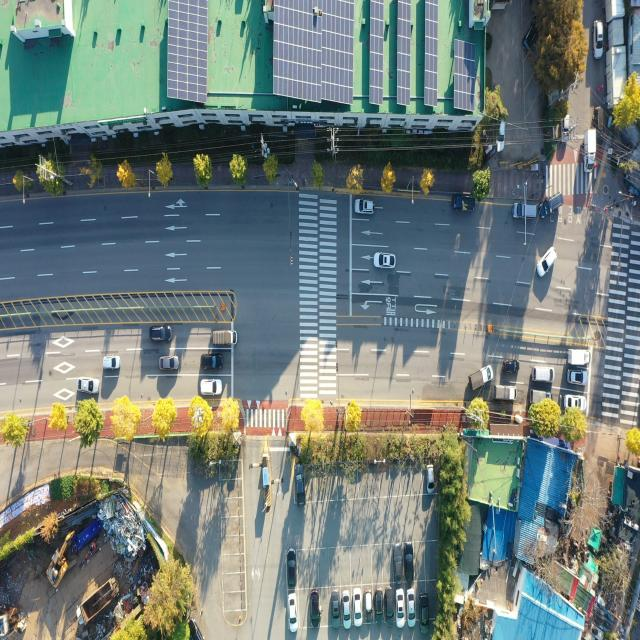car: (536, 248, 555, 278), (540, 197, 564, 220), (524, 20, 542, 49), (402, 544, 414, 586), (564, 395, 588, 416), (294, 463, 306, 504), (592, 18, 604, 59), (512, 203, 538, 220), (309, 588, 320, 627), (330, 587, 340, 629), (393, 542, 403, 583), (532, 366, 556, 382), (77, 378, 99, 394), (420, 593, 429, 632), (288, 593, 297, 631), (395, 588, 404, 626), (376, 252, 397, 268), (201, 380, 222, 396), (408, 589, 417, 626), (385, 587, 394, 624), (497, 117, 507, 150), (343, 592, 352, 628), (504, 357, 520, 377), (202, 354, 223, 369), (152, 326, 174, 340), (363, 588, 372, 622), (355, 200, 375, 215), (288, 551, 296, 588), (568, 372, 588, 386), (104, 354, 121, 370), (426, 464, 436, 491), (161, 356, 180, 369), (354, 590, 361, 624), (376, 586, 383, 620)
small_truck: (468, 363, 494, 393), (582, 126, 598, 172), (211, 329, 239, 348), (452, 191, 476, 212), (493, 384, 518, 404), (532, 388, 554, 408), (566, 349, 590, 366)
